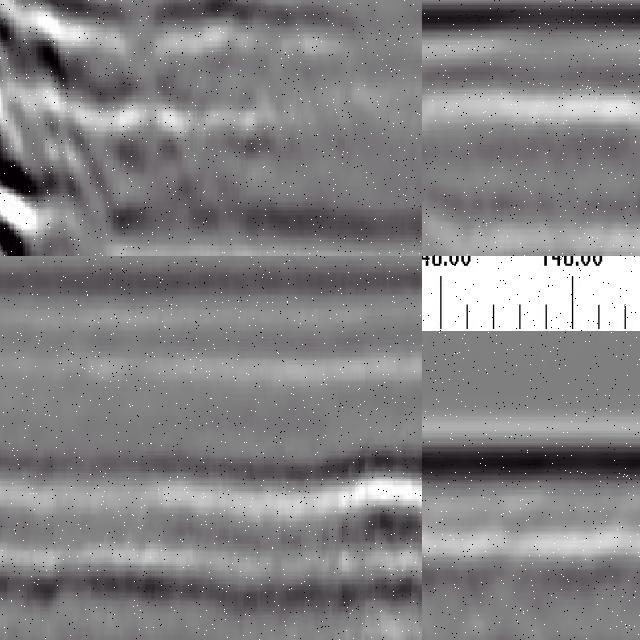loose: (1, 1, 253, 257), (423, 116, 531, 257)
